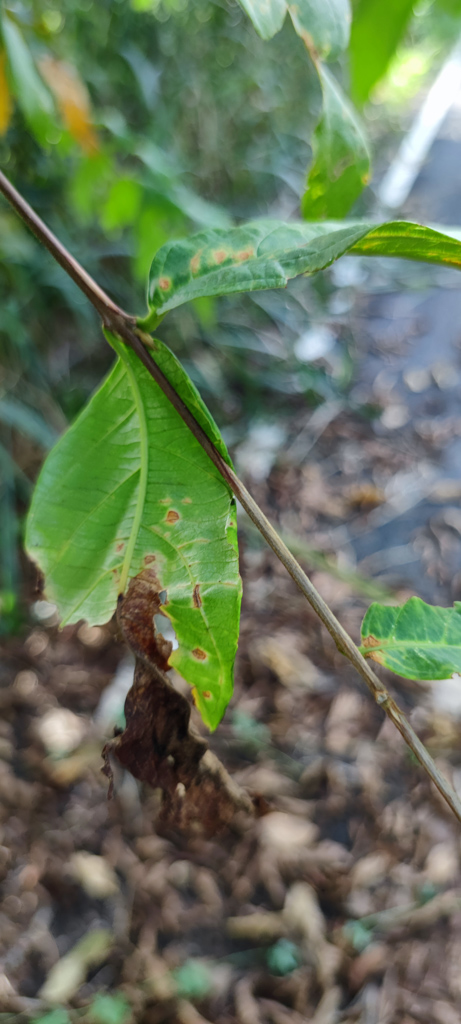frog-eye leafspot: (153, 486, 203, 531), (123, 543, 172, 569), (179, 639, 214, 671), (184, 576, 210, 613), (196, 688, 221, 703)
